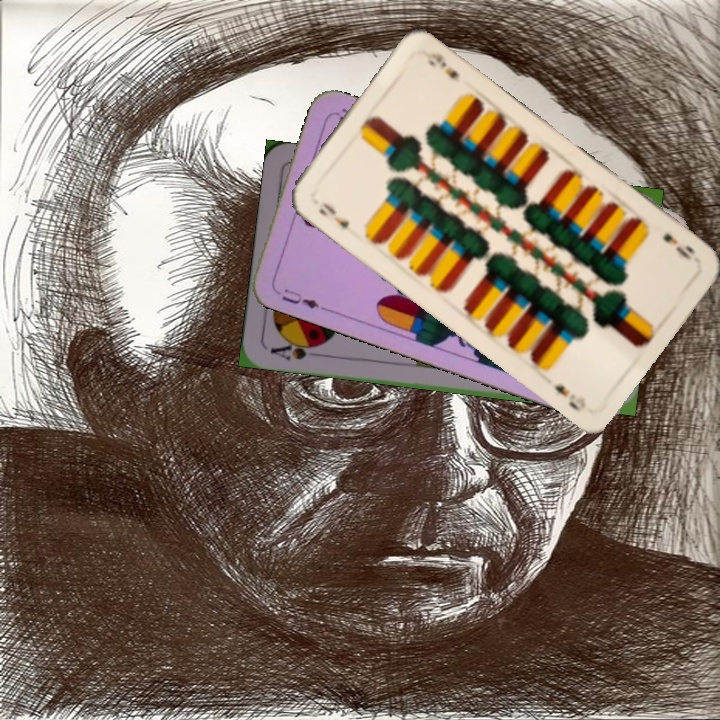E9: (658, 229, 697, 263), (315, 198, 352, 232)
EU: (270, 283, 327, 313)
SA: (267, 336, 325, 363)
